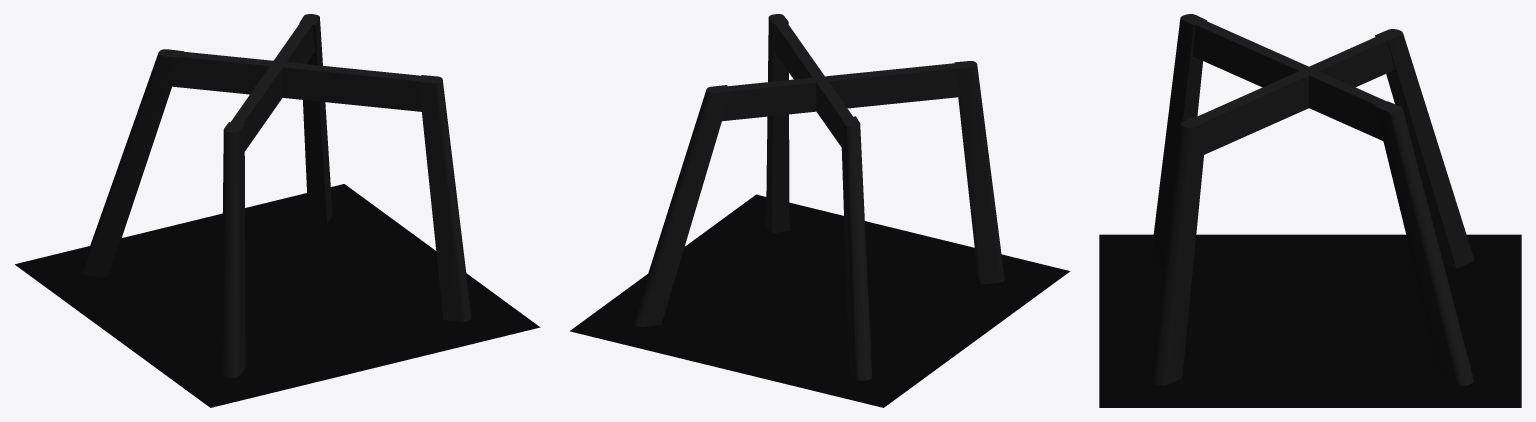
Rendered from Legs_edged.glb.
The picture shows the model from 3 angles, left to right: view 1: azimuth 30°, elevation 25°; view 2: azimuth 150°, elevation 25°; view 3: azimuth 270°, elevation 25°; orthographic projection. The views are drawn at different scales.
Parts seen in each view (by area): view 1: Shadow_edge, Legs_metal_eged_Black; view 2: Shadow_edge, Legs_metal_eged_Black; view 3: Shadow_edge, Legs_metal_eged_Black.
Boxes of the visible parts, bbox=[...] form: Shadow_edge: bbox=[15, 184, 540, 407]; Legs_metal_eged_Black: bbox=[81, 14, 471, 377]; Shadow_edge: bbox=[570, 194, 1070, 407]; Legs_metal_eged_Black: bbox=[633, 14, 1004, 380]; Shadow_edge: bbox=[1099, 234, 1521, 407]; Legs_metal_eged_Black: bbox=[1150, 14, 1474, 385].
Bounding box in the file's own units: 0.5956 × 0.401 × 0.6133.
2 materials, 1 textured.
